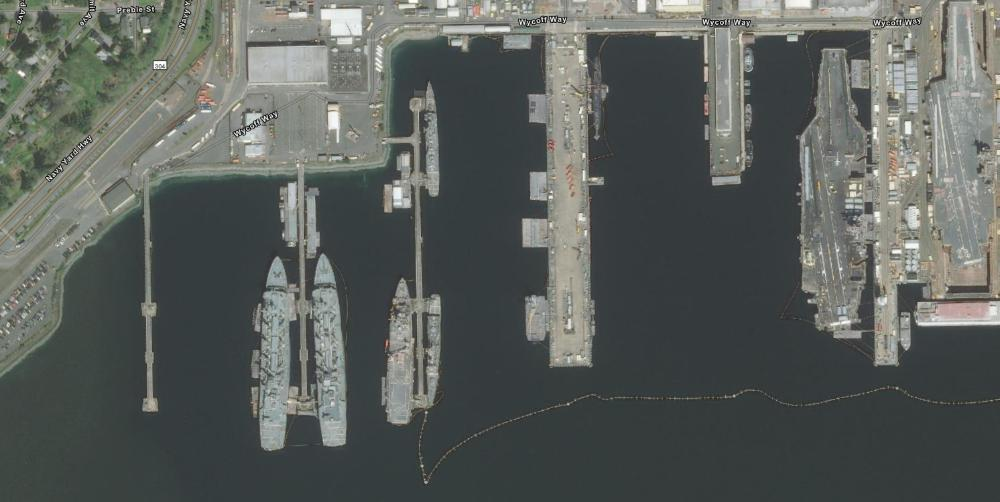carrier: (790, 35, 875, 343)
cruiser: (422, 289, 448, 415), (425, 79, 448, 206)
submarine: (588, 55, 609, 147)
tender: (308, 255, 372, 465), (250, 255, 302, 467)
